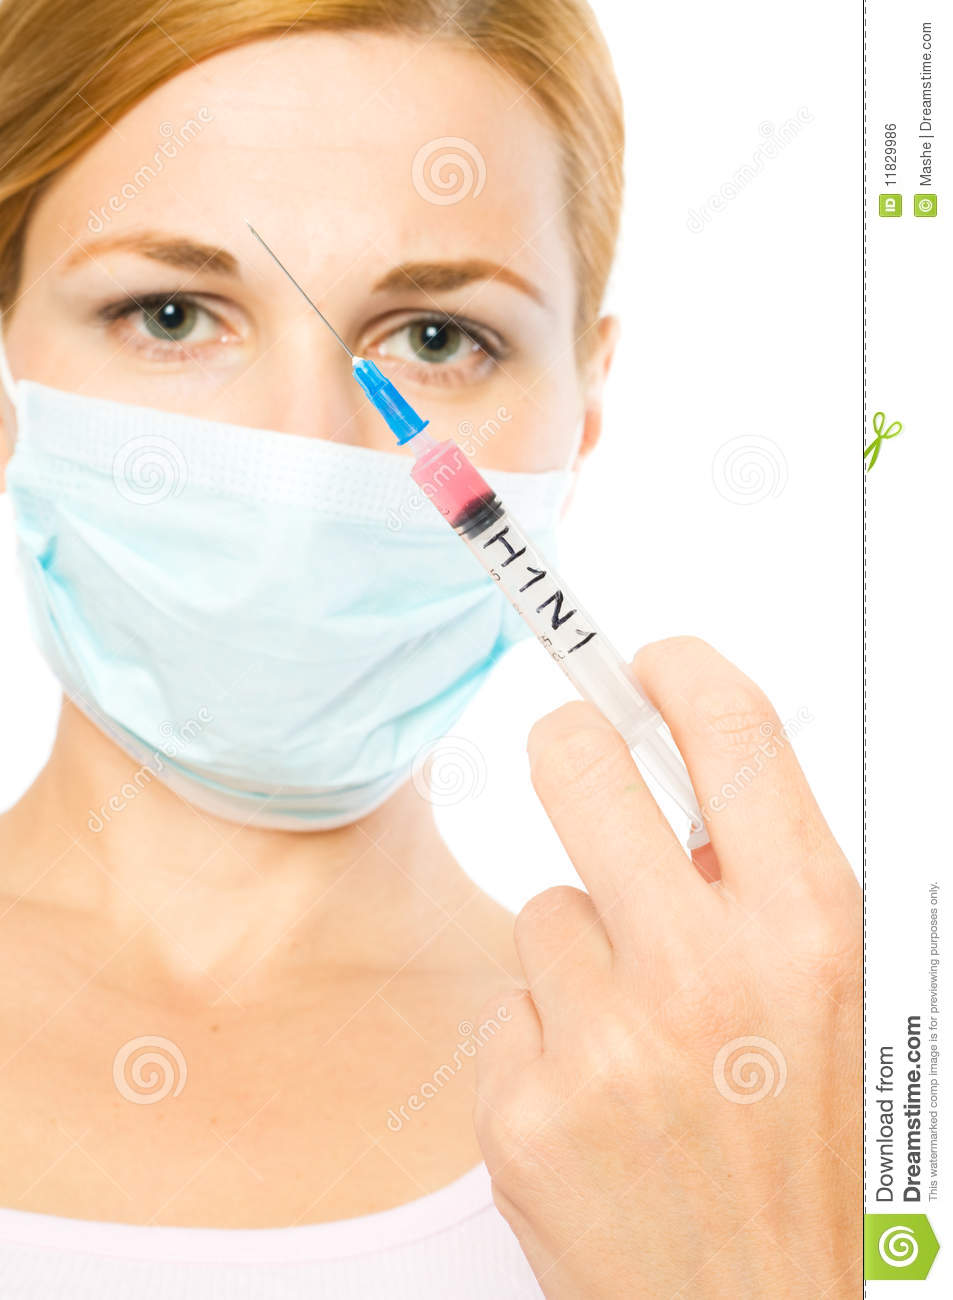mask: (6, 380, 570, 843)
